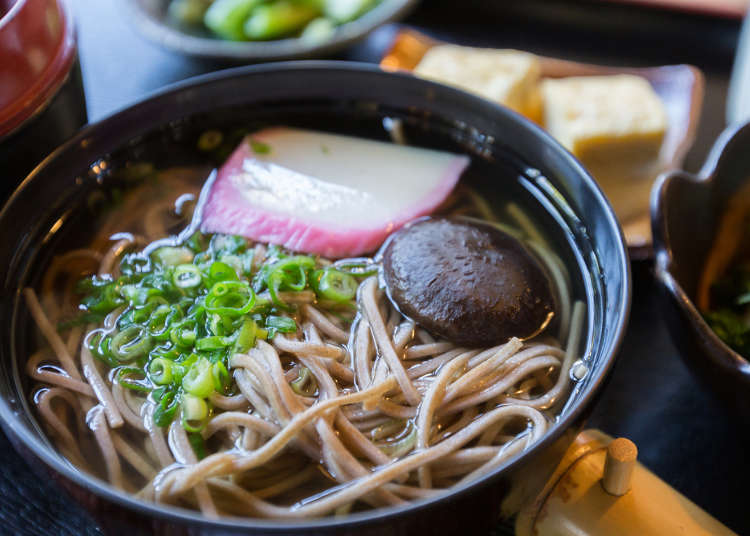Soba: (60, 160, 575, 503)
